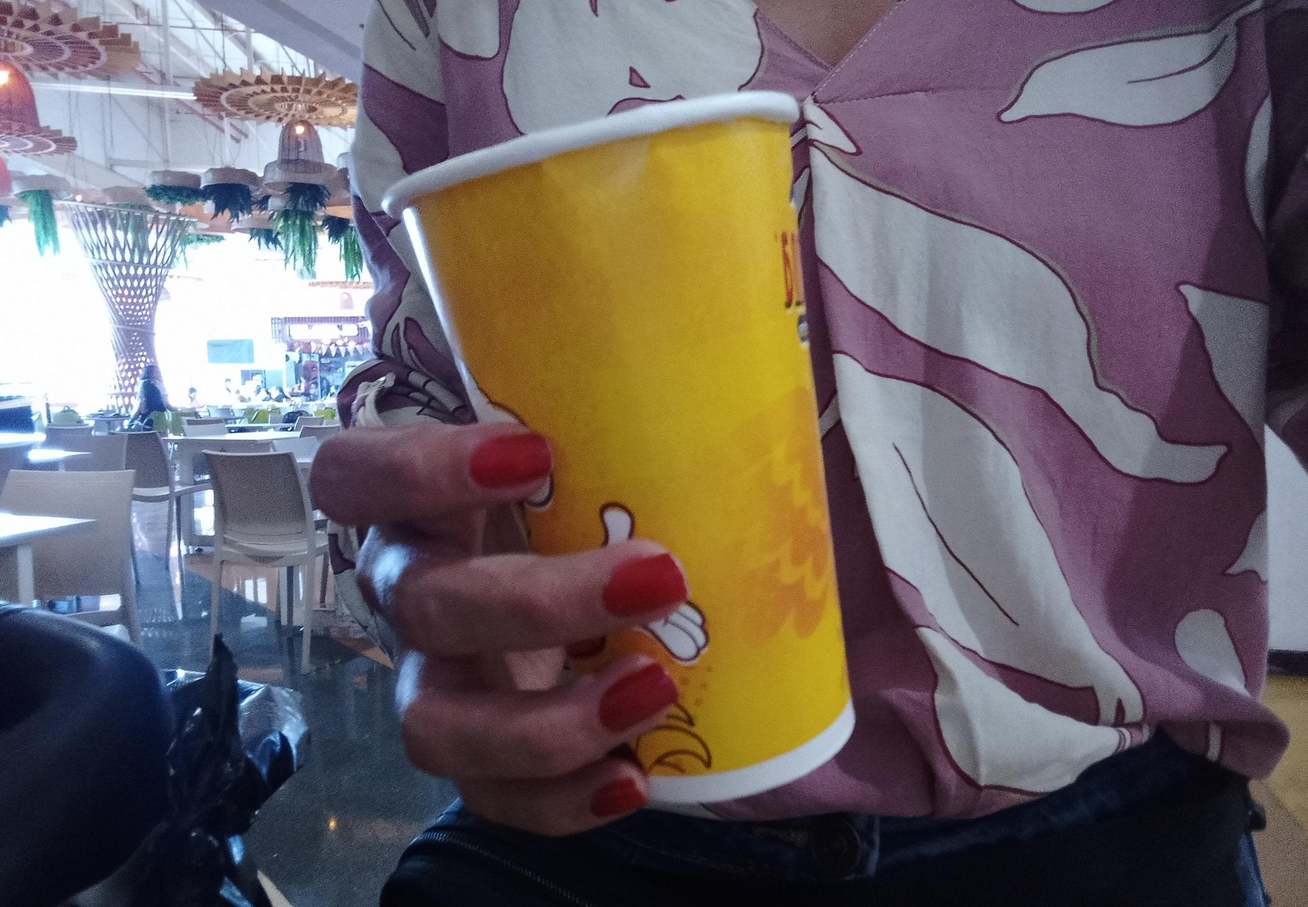Carton: (382, 90, 868, 802)
